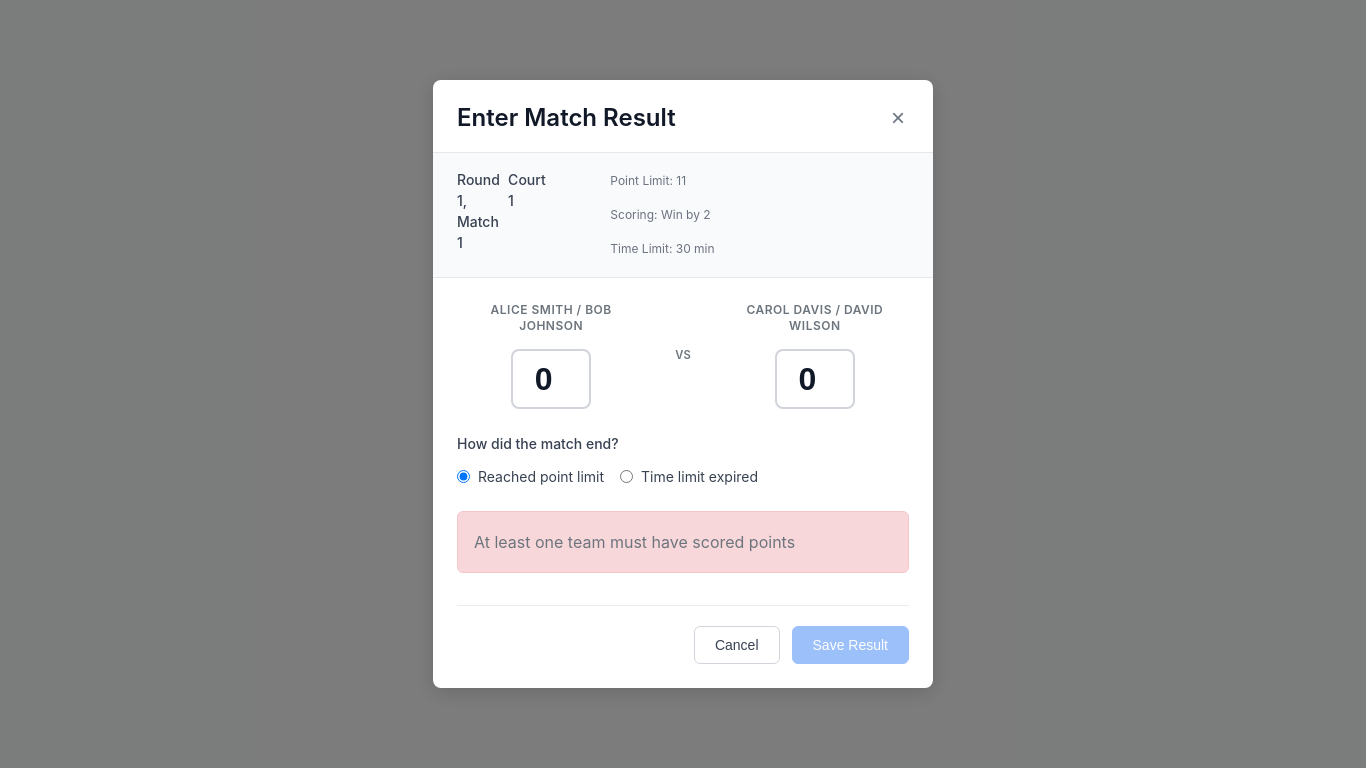
Test: ScoreEntry Component › end reason selection › should validate time limit ending correctly
Enter scores below point limit
Replace the text in the number field below "Alice Smith / Bob Johnson" with "8". click: (551, 379)
box: [511,349,591,409]
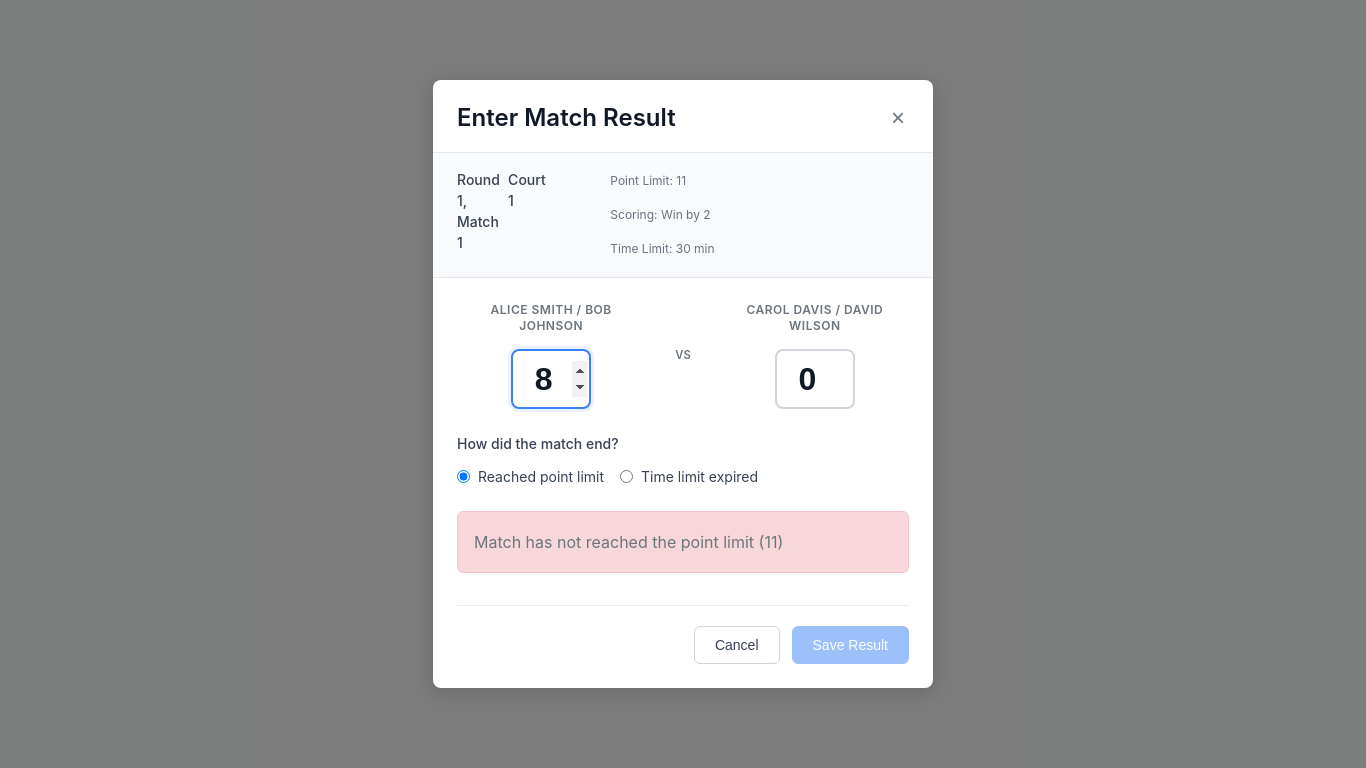
Replace the text in the number field below "Carol Davis / David Wilson" with "6". click: (815, 379)
box: [775,349,855,409]
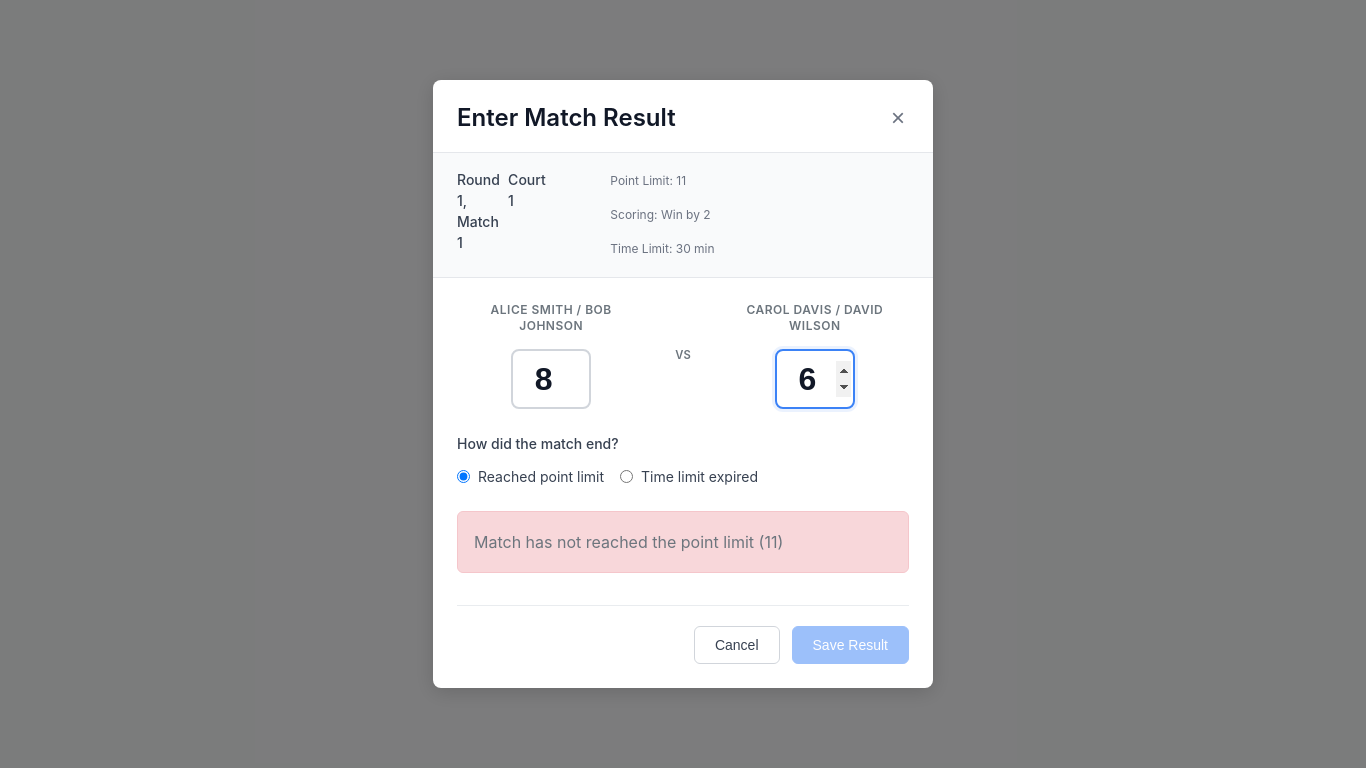
Select time limit
Click the radio button labelled "Time limit expired". click: (627, 477)
box: [620,470,633,483]
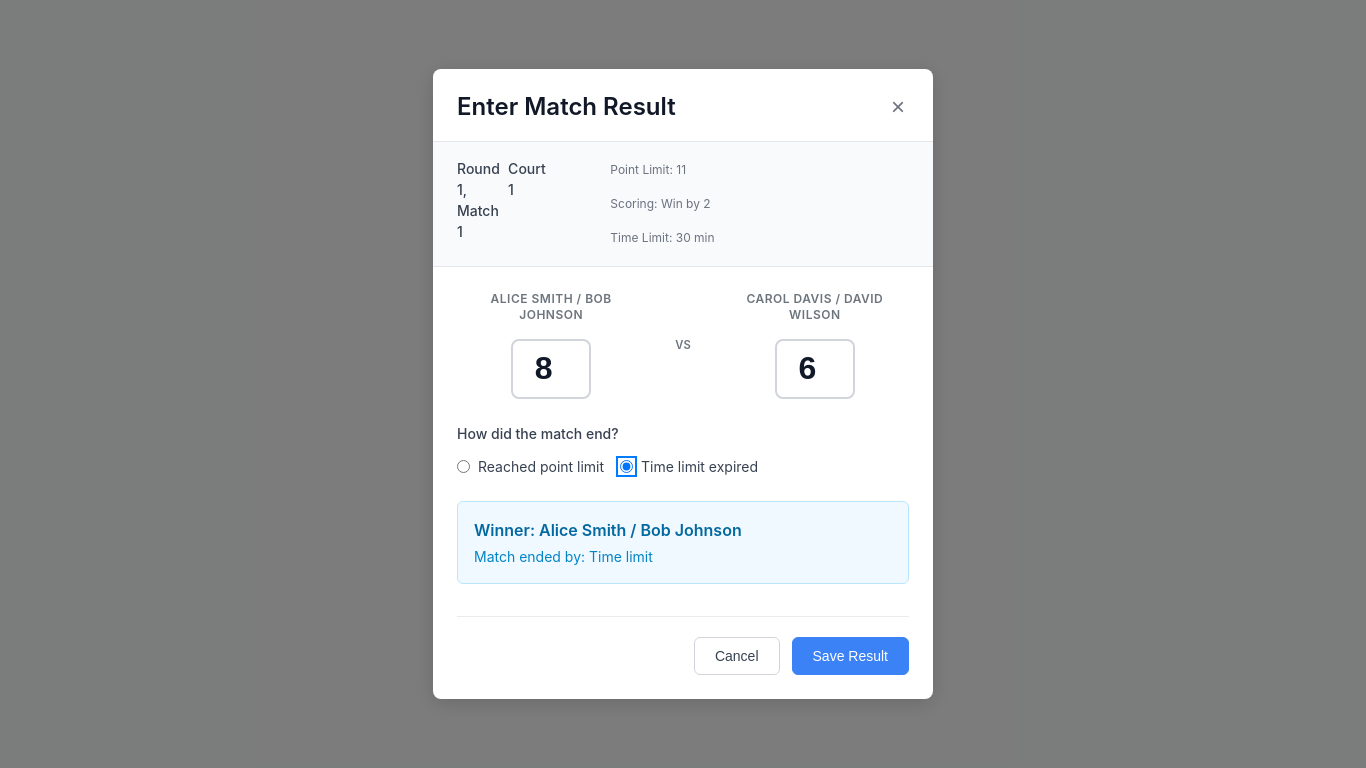
Result: the text "Winner: Alice Smith / Bob Johnson" is shown at [474,520,742,540]
Result: the text "Match ended by: Time limit" is shown at [474,548,653,565]
